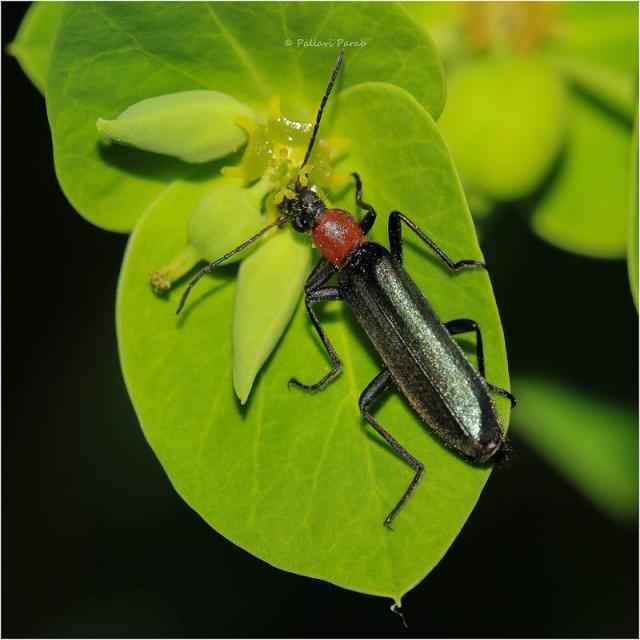BlisterBeetle-Adult-: (173, 47, 521, 534)
